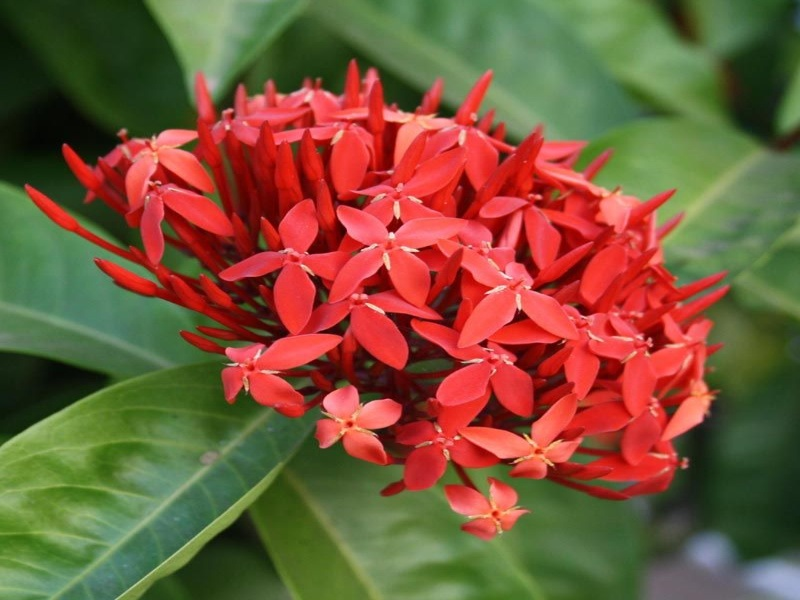Ixora: (9, 38, 754, 542)
